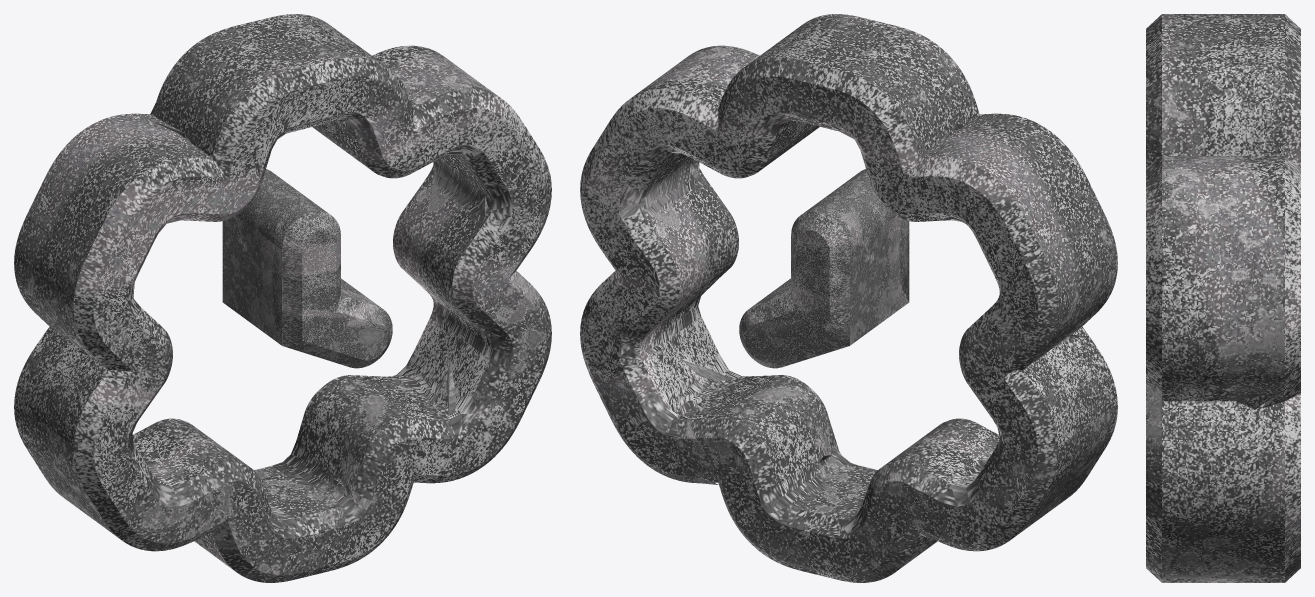
The model's file is destroy_clock-new.glb.
3 renders of one model, left to right at view 1: azimuth 30°, elevation 25°; view 2: azimuth 150°, elevation 25°; view 3: azimuth 270°, elevation 25°, orthographic. The views are drawn at different scales.
Visible parts, largest first — view 1: Mesh_0_2, Mesh_0_1, Mesh_0_cell042_2, Mesh_0_cell035_2, Mesh_0_cell001_2, Mesh_0_cell024_2, Mesh_0_cell050_2, Mesh_0_cell074_2, Mesh_0_cell032_2, Mesh_0_cell045, Mesh_0_cell065, Mesh_0_cell027_2 (+16 smaller); view 2: Mesh_0_2, Mesh_0_1, Mesh_0_cell027_2, Mesh_0_cell065_2, Mesh_0_cell018_2, Mesh_0_cell065, Mesh_0_cell001_2, Mesh_0_cell100_1, Mesh_0_cell061_2, Mesh_0_cell009_2, Mesh_0_cell038_2, Mesh_0_cell041_2 (+6 smaller); view 3: Mesh_0_2, Mesh_0_cell009_2, Mesh_0_cell022_2, Mesh_0_cell016_2, Mesh_0_cell043_2, Mesh_0_cell018_2, Mesh_0_cell047_2, Mesh_0_cell075_2.
Part boxes in pixels (x1,y1,x2,y2): Mesh_0_2: (14,14,551,582); Mesh_0_1: (222,169,392,368); Mesh_0_cell042_2: (204,59,369,195); Mesh_0_cell035_2: (95,168,226,283); Mesh_0_cell001_2: (416,301,534,437); Mesh_0_cell024_2: (471,139,547,250); Mesh_0_cell050_2: (93,320,167,414); Mesh_0_cell074_2: (184,481,260,543); Mesh_0_cell032_2: (58,406,136,501); Mesh_0_cell045: (267,253,336,345); Mesh_0_cell065: (223,218,265,300); Mesh_0_cell027_2: (255,426,339,485); Mesh_0_2: (580,14,1117,582); Mesh_0_1: (739,169,908,368); Mesh_0_cell027_2: (736,439,837,549); Mesh_0_cell065_2: (620,357,679,469); Mesh_0_cell018_2: (606,251,685,336); Mesh_0_cell065: (829,240,892,324); Mesh_0_cell001_2: (670,276,767,386); Mesh_0_cell100_1: (896,436,985,539); Mesh_0_cell061_2: (676,358,749,471); Mesh_0_cell009_2: (644,153,691,218); Mesh_0_cell038_2: (587,333,639,417); Mesh_0_cell041_2: (927,456,996,506); Mesh_0_2: (1146,14,1300,582); Mesh_0_cell009_2: (1173,256,1284,409); Mesh_0_cell022_2: (1150,390,1250,493); Mesh_0_cell016_2: (1245,256,1284,281); Mesh_0_cell043_2: (1191,59,1300,158); Mesh_0_cell018_2: (1263,396,1284,422); Mesh_0_cell047_2: (1162,547,1250,578); Mesh_0_cell075_2: (1146,156,1234,218).
Size of the model in its own units: 0.2605 by 0.2655 by 0.0706.
Materials: 1 (1 with a texture image).
